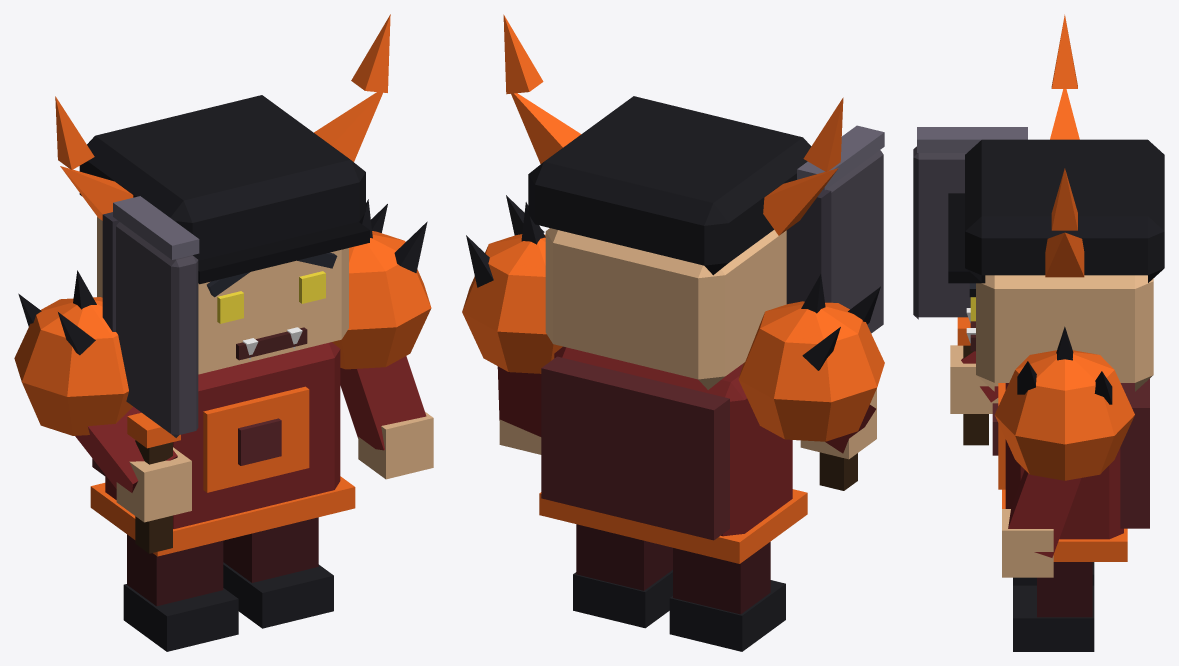
The model's file is warlord_r3.glb.
3 renders of one model, left to right at view 1: azimuth 30°, elevation 25°; view 2: azimuth 150°, elevation 25°; view 3: azimuth 270°, elevation 25°, orthographic. The views are drawn at different scales.
Visible parts, largest first — view 1: warlord_r3_mesh; view 2: warlord_r3_mesh; view 3: warlord_r3_mesh.
Part boxes in pixels (left/top/right/bottom): warlord_r3_mesh: left=14, top=14, right=433, bottom=651; warlord_r3_mesh: left=462, top=14, right=884, bottom=651; warlord_r3_mesh: left=913, top=14, right=1164, bottom=651.
Bounding box in the file's own units: 2.72 × 3.6 × 1.57.
1 material, 1 textured.
